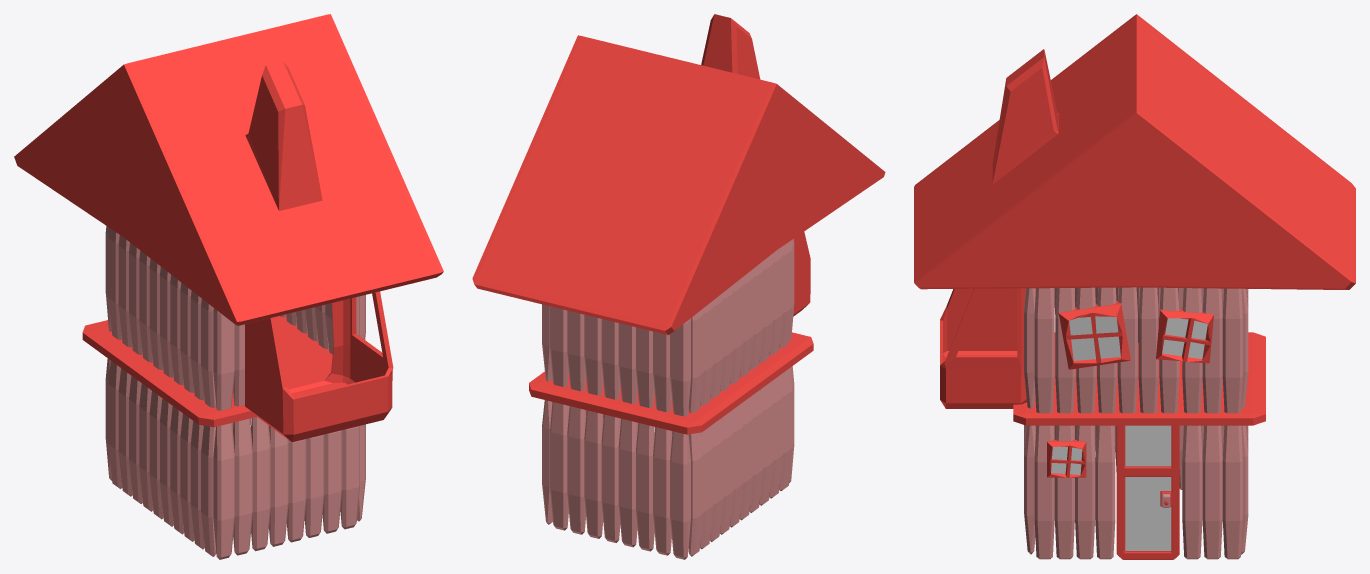
Rendered from house.fbx.
The picture shows the model from 3 angles, left to right: view 1: azimuth 30°, elevation 25°; view 2: azimuth 150°, elevation 25°; view 3: azimuth 270°, elevation 25°; orthographic projection. The views are drawn at different scales.
Visible parts, largest first — view 1: Cube.023, Cube.001, Cube.002, Cube.018, Cube.010, Cube.019, Cube.009, Cube.008, Cube; view 2: Cube.023, Cube.003, Cube.002, Cube.011, Cube.010, Cube.019, Cube.018, Cube.004, Cube.012; view 3: Cube.023, Cube.008, Cube.018, Cube, Cube.005, Cube.004, Cube.019, Cube.012, Cube.013, Cube.014, Cube.007, Cube.001 (+5 smaller).
Boxes of the visible parts, x1,y1,x2,y2 form: Cube.023: (14,14,443,325); Cube.001: (213,417,359,559); Cube.002: (108,360,216,556); Cube.018: (245,291,393,442); Cube.010: (108,228,216,407); Cube.019: (82,316,346,427); Cube.009: (213,296,359,410); Cube.008: (286,295,365,354); Cube: (357,424,365,521); Cube.023: (472,14,885,334); Cube.003: (550,402,690,559); Cube.002: (688,368,792,556); Cube.011: (550,306,690,416); Cube.010: (688,240,792,413); Cube.019: (529,332,813,434); Cube.018: (793,232,810,316); Cube.004: (542,400,569,524); Cube.012: (542,304,552,381); Cube.023: (914,14,1355,289); Cube.008: (1034,287,1179,413); Cube.018: (940,288,1026,408); Cube: (1034,425,1115,559); Cube.005: (1116,425,1179,559); Cube.004: (1182,425,1242,559); Cube.019: (1013,332,1265,425); Cube.012: (1182,288,1242,413); Cube.013: (1058,301,1130,369); Cube.014: (1156,309,1213,363); Cube.007: (1047,440,1086,477); Cube.001: (1024,425,1035,554).
Bounding box in the file's own units: 742 × 1633 × 1400.
